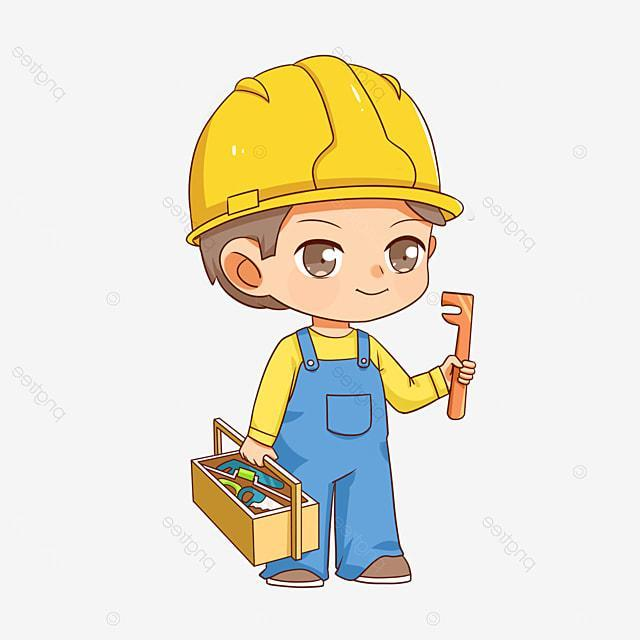Safety-Helmet: (182, 56, 467, 238)
